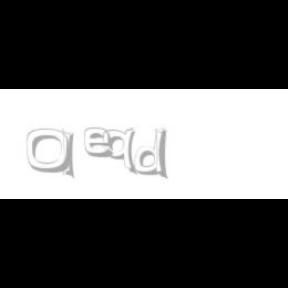I: (62, 128, 76, 180)
O: (26, 128, 72, 174)
d: (134, 128, 172, 180)
e: (84, 128, 118, 158)
l: (155, 128, 171, 180)
q: (103, 128, 139, 176)
